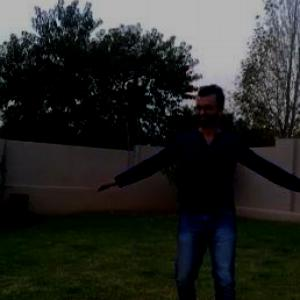land: (67, 49, 299, 299)
